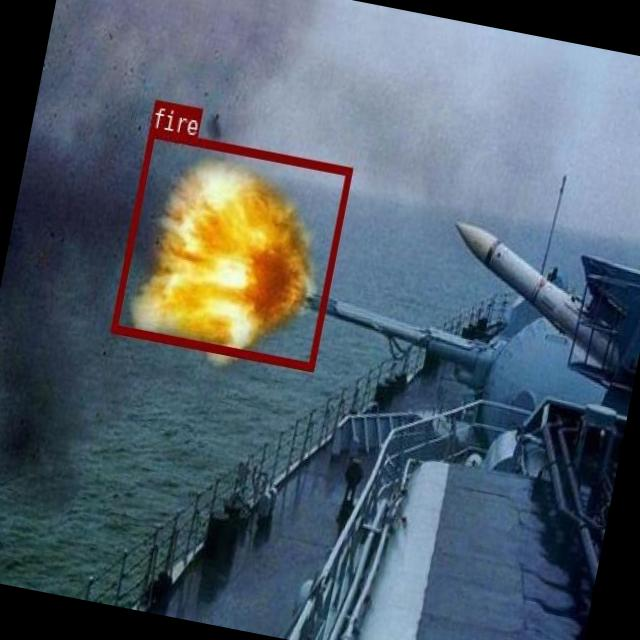fire: (110, 129, 352, 370)
